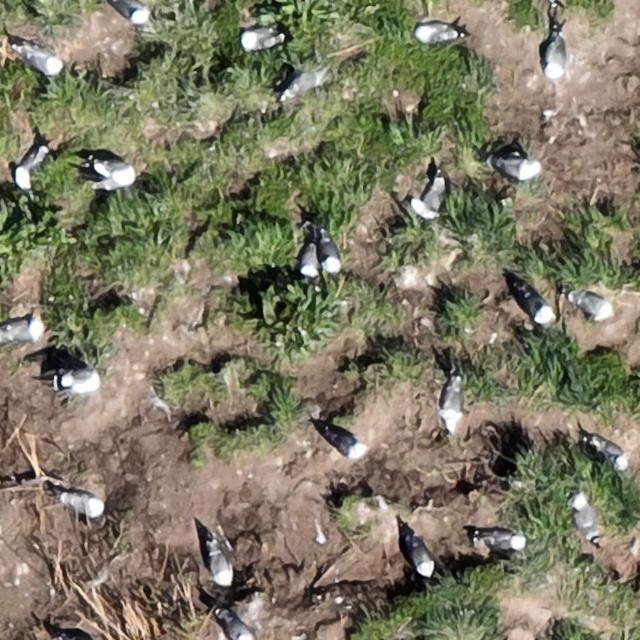umineko: (489, 152, 542, 181), (415, 172, 445, 221), (50, 369, 102, 394), (59, 492, 105, 520), (15, 149, 46, 190), (4, 318, 47, 342), (523, 290, 554, 323), (280, 77, 317, 104), (574, 497, 598, 537), (27, 48, 63, 74), (96, 161, 136, 184), (328, 432, 363, 458), (442, 382, 462, 424), (598, 441, 627, 468), (412, 540, 434, 575), (111, 1, 146, 23), (212, 546, 232, 584), (485, 532, 523, 552), (242, 28, 277, 49), (417, 24, 455, 43), (321, 235, 341, 271), (579, 294, 611, 316), (225, 616, 252, 640), (546, 40, 564, 75), (300, 244, 319, 277)
